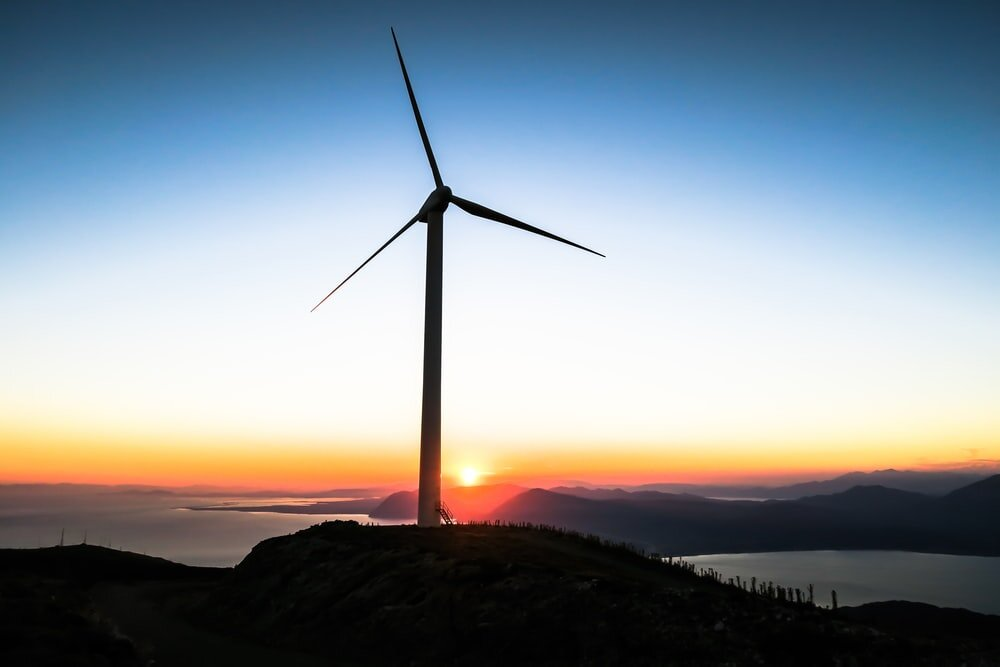working: (319, 22, 580, 348)
